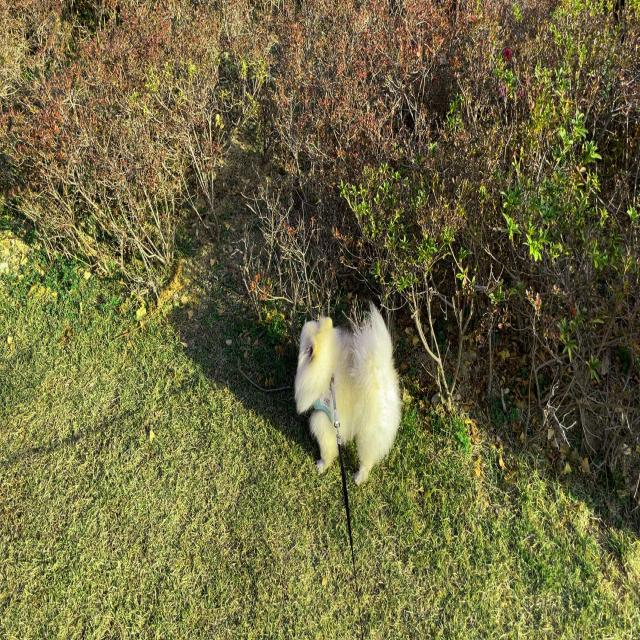Dog: (294, 300, 403, 487)
